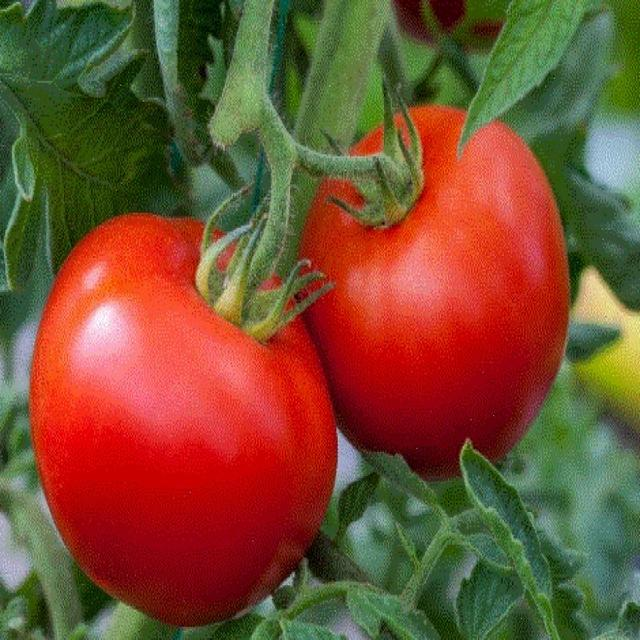Healthy Fruit: (127, 185, 299, 273)
